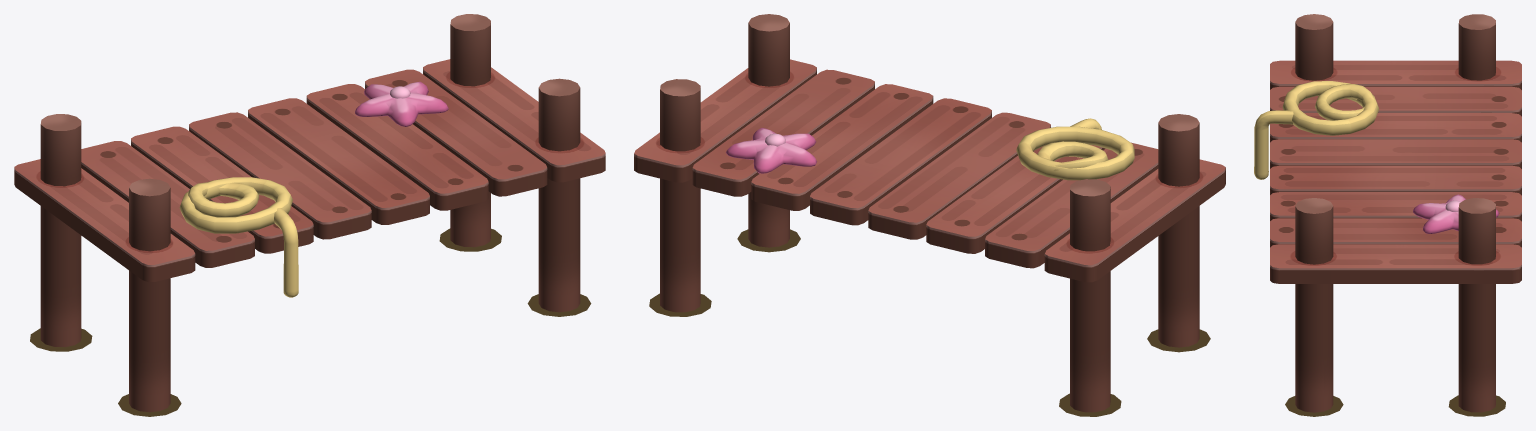
Rendered from Mu_Harbor.fbx.
3 renders of one model, left to right at view 1: azimuth 30°, elevation 25°; view 2: azimuth 150°, elevation 25°; view 3: azimuth 270°, elevation 25°, orthographic. The views are drawn at different scales.
Parts seen in each view (by area): view 1: Mu_Harbor_a, Mu_Harbor_b, Mu_Harbor_c, Mu_Harbor_shadow; view 2: Mu_Harbor_a, Mu_Harbor_b, Mu_Harbor_c, Mu_Harbor_shadow; view 3: Mu_Harbor_a, Mu_Harbor_b, Mu_Harbor_c, Mu_Harbor_shadow.
Boxes of the visible parts, box(x1,y1,x2,y2) form: Mu_Harbor_a: box(14, 14, 605, 412); Mu_Harbor_b: box(179, 177, 298, 297); Mu_Harbor_c: box(355, 81, 448, 126); Mu_Harbor_shadow: box(30, 228, 591, 416); Mu_Harbor_a: box(634, 14, 1225, 412); Mu_Harbor_b: box(1016, 118, 1134, 180); Mu_Harbor_c: box(726, 128, 816, 173); Mu_Harbor_shadow: box(649, 229, 1210, 416); Mu_Harbor_a: box(1270, 14, 1521, 412); Mu_Harbor_b: box(1254, 81, 1379, 179); Mu_Harbor_c: box(1413, 194, 1499, 233); Mu_Harbor_shadow: box(1285, 395, 1505, 416).
Bounding box in the file's own units: 363 × 161 × 197.
Materials: 2 (1 with a texture image).
